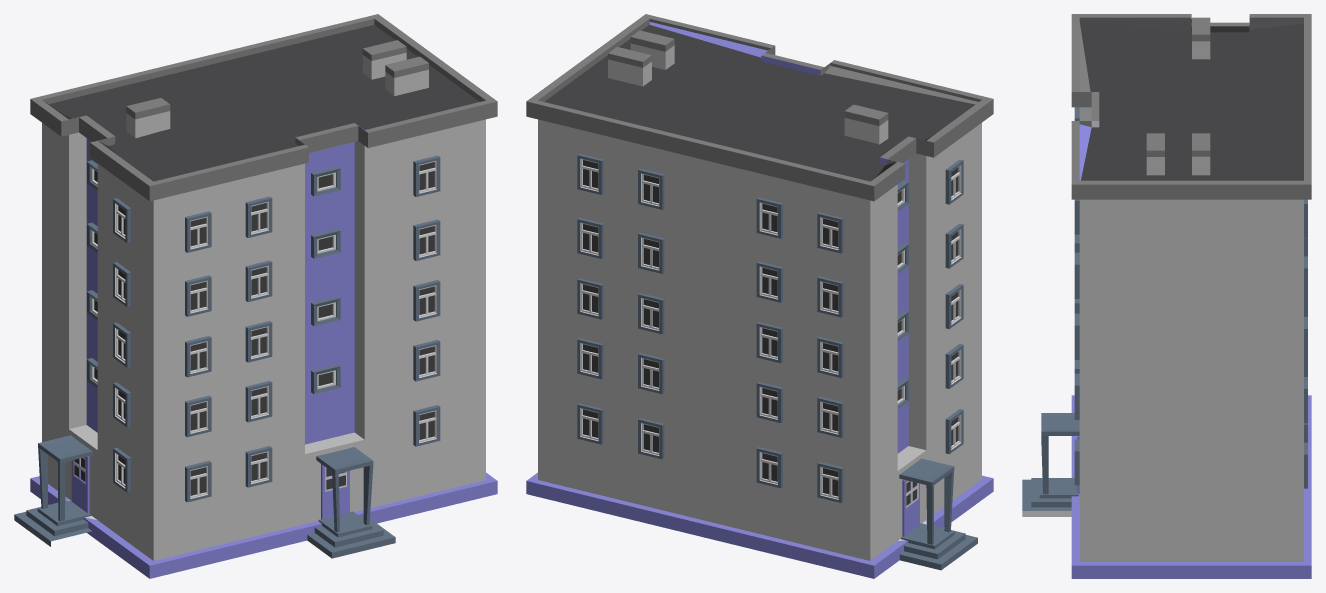
Rendered from flat_3.fbx.
3 renders of one model, left to right at view 1: azimuth 30°, elevation 25°; view 2: azimuth 150°, elevation 25°; view 3: azimuth 270°, elevation 25°, orthographic.
Parts seen in each view (by area): view 1: Flat1.125; view 2: Flat1.125; view 3: Flat1.125.
Part boxes in pixels (x1,y1,x2,y2): Flat1.125: [14, 14, 497, 578]; Flat1.125: [526, 14, 993, 578]; Flat1.125: [1022, 14, 1311, 578].
Size of the model in its own units: 10.79 by 10.89 by 6.92.
